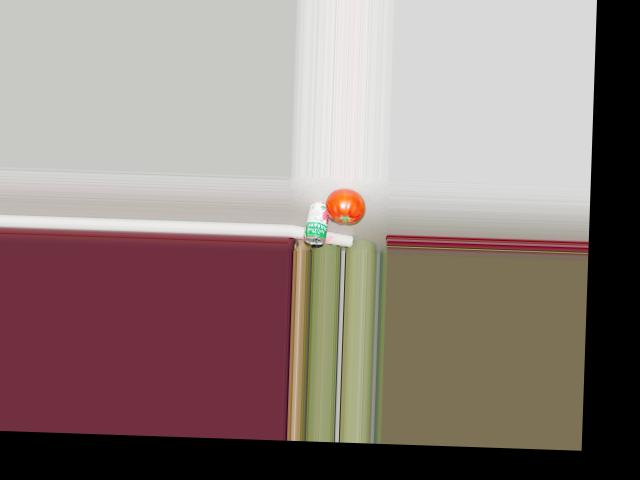tomato: (325, 188, 366, 223)
